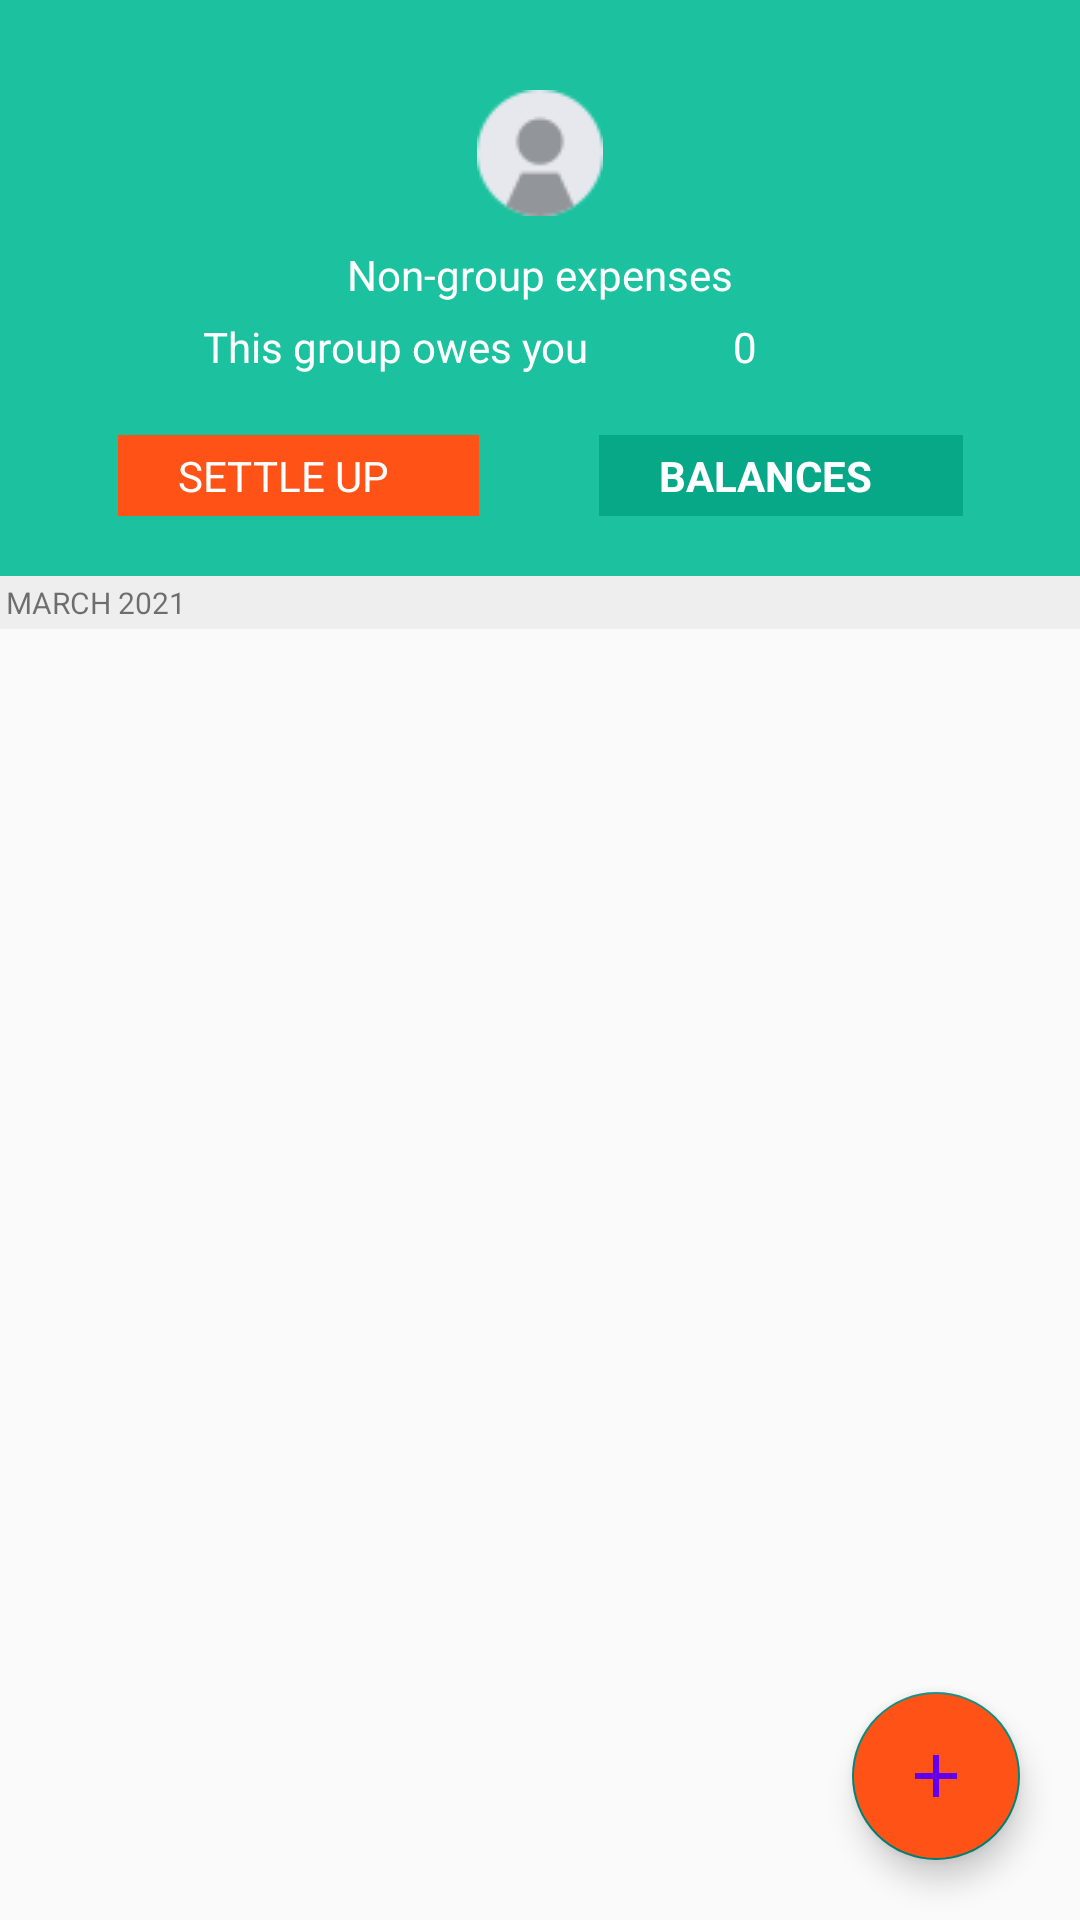

Where to tap for icons on this 1080 × 1920 app screen, as [x,y]:
contact: [540,153]
plus: [936,1776]
